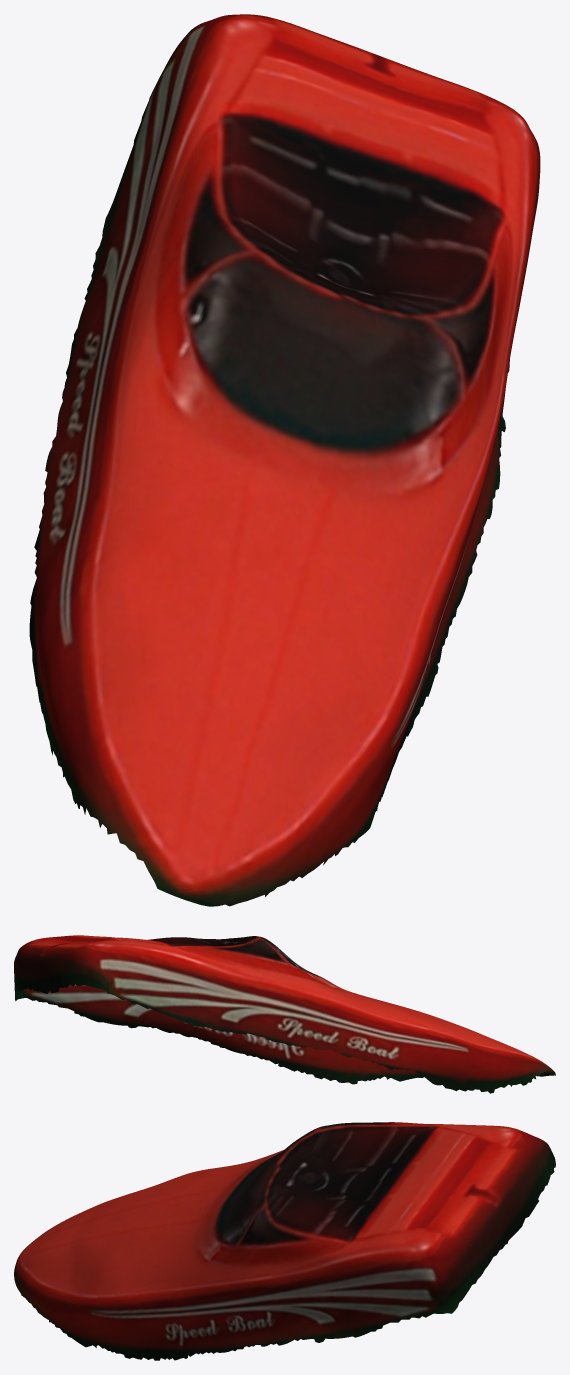
The model's file is RedSpeedDM_Boat.obj.
3 views of the same model, one above another, from view 1: azimuth 30°, elevation 25°; view 2: azimuth 150°, elevation 25°; view 3: azimuth 270°, elevation 25° (orthographic). The views are drawn at different scales.
Size of the model in its own units: 0.9909 by 0.615 by 1.07.
1 material, 1 textured.
